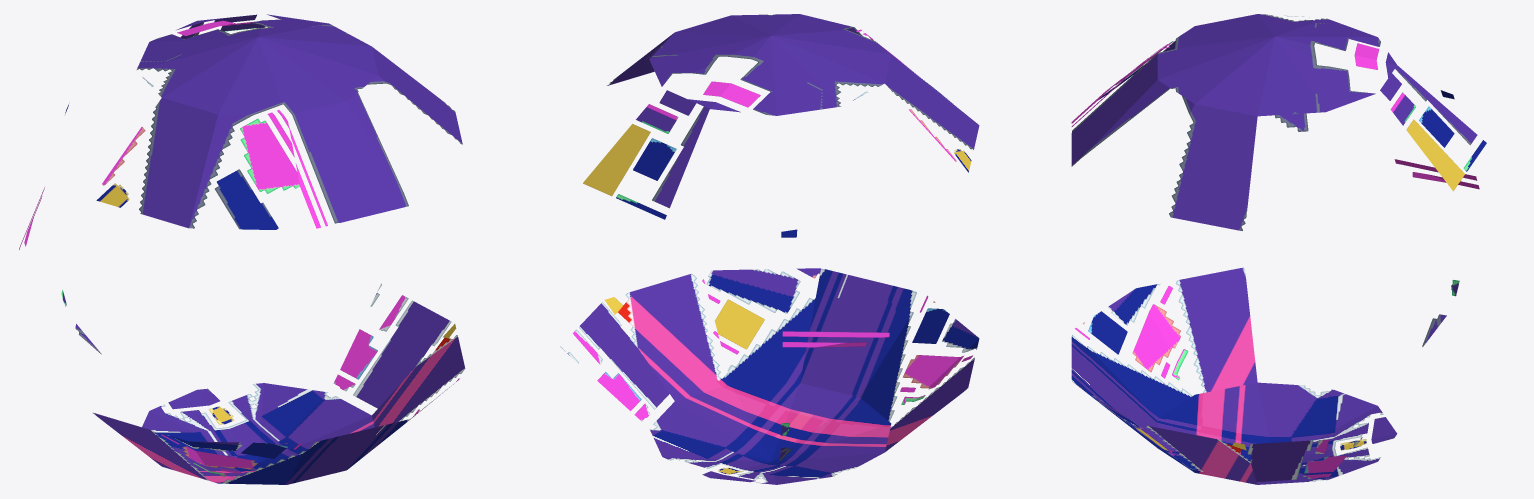
File: EXPLOSION.fbx
3 views of the same model, side by side, from view 1: azimuth 30°, elevation 25°; view 2: azimuth 150°, elevation 25°; view 3: azimuth 270°, elevation 25° (orthographic).
Parts seen in each view (by area): view 1: sphere; view 2: sphere; view 3: sphere.
Boxes of the visible parts, <box> form: sphere: <box>19,14,465,484</box>; sphere: <box>560,14,979,484</box>; sphere: <box>1071,14,1486,484</box>.
Size of the model in its own units: 142 by 138 by 140.
